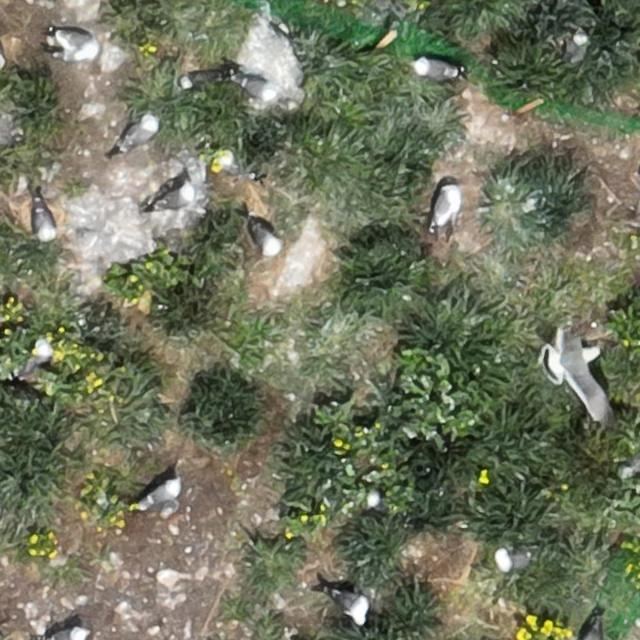F: (548, 330, 609, 416)
umineko: (53, 27, 99, 60), (333, 590, 368, 619), (434, 188, 459, 227), (144, 480, 181, 504), (252, 223, 280, 254), (236, 75, 274, 97), (416, 59, 456, 79), (496, 548, 532, 570), (126, 119, 156, 145), (36, 207, 57, 241), (158, 188, 191, 207), (567, 35, 587, 64), (182, 72, 214, 88), (47, 627, 80, 639), (583, 621, 601, 640)
